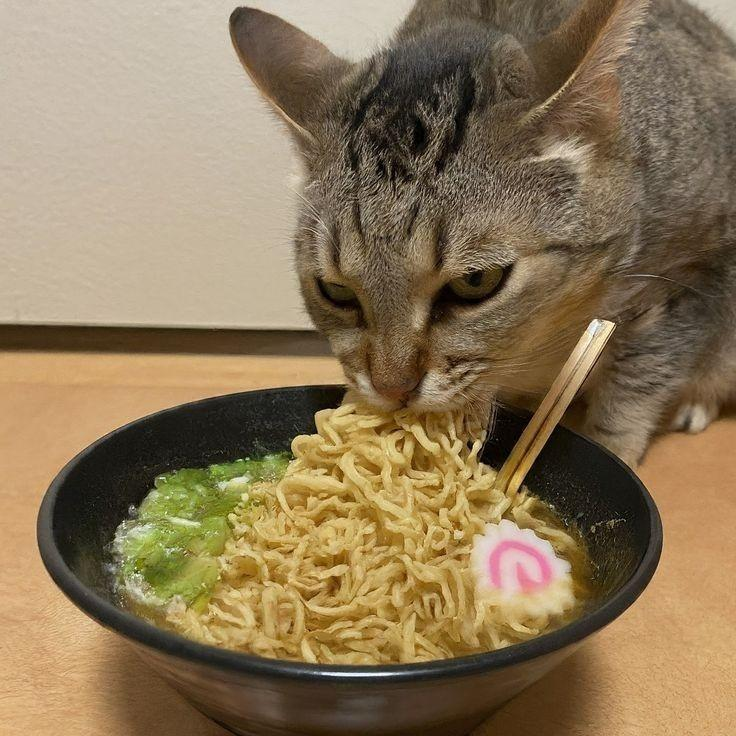non-dog: (227, 1, 736, 464)
